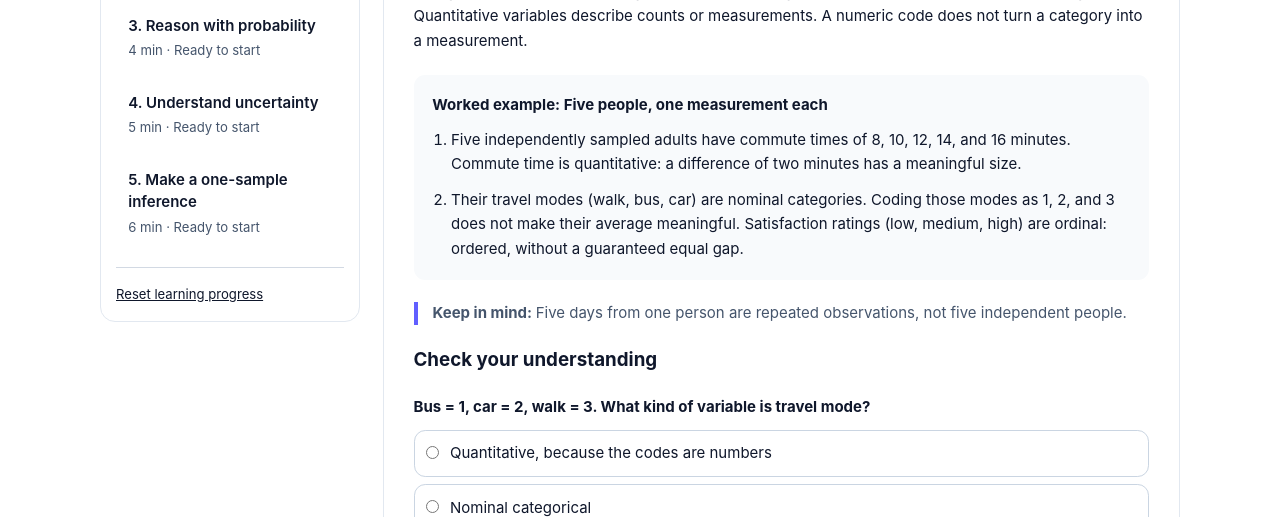
Test: lets learners open later lessons without completing earlier ones
(page scrolled)
Click the button "5. Make a one-sample inference 6 min · Ready to start" at (230,202), box [116,156,344,248]
(page scrolled)
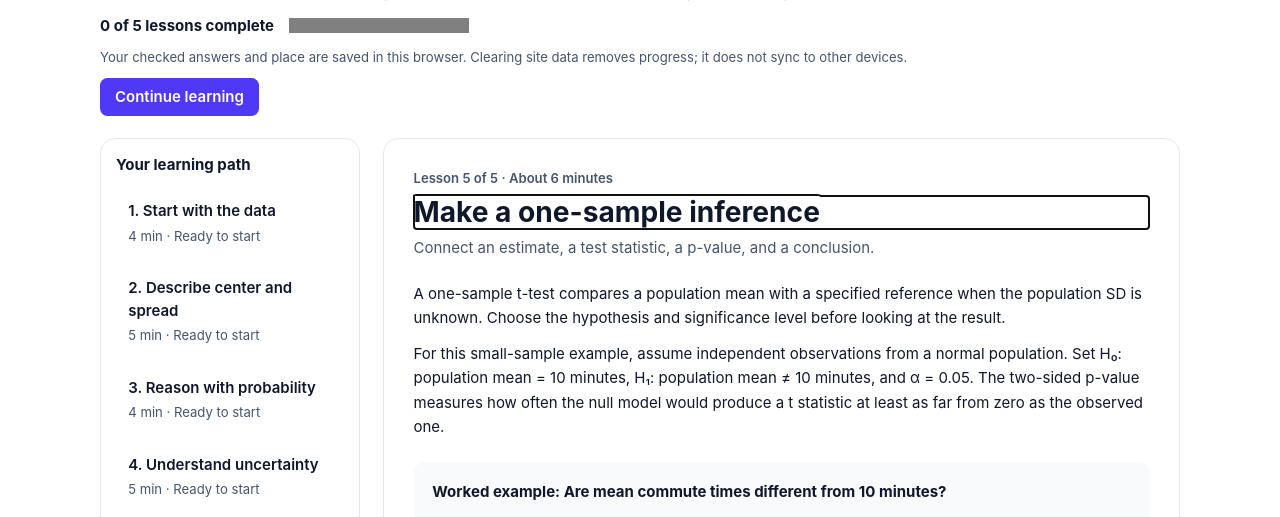
Expected: the progress indicator holds "0", [289,18,469,33]
Expected: the heading "Make a one-sample inference" is shown, [414,194,820,228]
